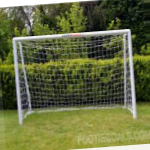goals: (11, 28, 137, 122)
